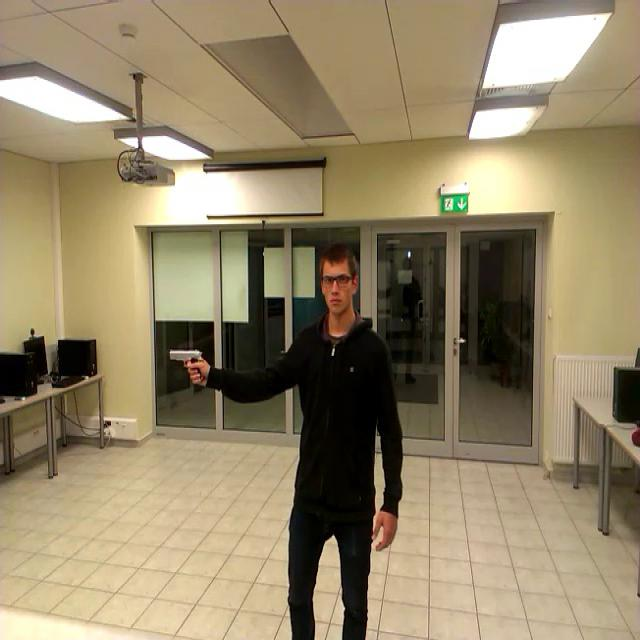handgun: (163, 331, 219, 396)
